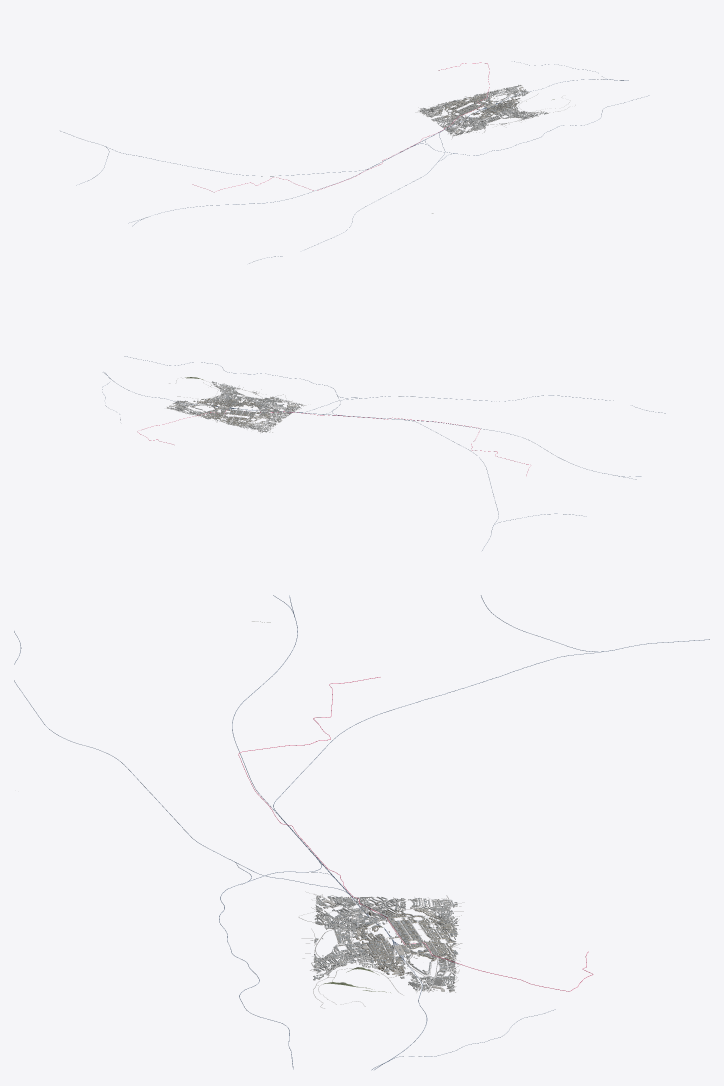
Rendered from edinburgh_3d.glb.
3 views of the same model, one above another, from view 1: azimuth 30°, elevation 25°; view 2: azimuth 150°, elevation 25°; view 3: azimuth 270°, elevation 25° (orthographic). The views are drawn at different scales.
Visible parts, largest first — view 1: Bati_Centre, Lignes_Train, Bati_Nouvelle_Ville, Voirie_centre; view 2: Bati_Centre, Lignes_Train, Bati_Nouvelle_Ville, Voirie_centre; view 3: Bati_Centre, Lignes_Train, Bati_Nouvelle_Ville, Voirie_centre, Bati_Vieille_Ville.
Part boxes in pixels (x1,y1,x2,y2): Bati_Centre: (418, 84, 548, 135); Lignes_Train: (60, 61, 649, 263); Bati_Nouvelle_Ville: (436, 93, 494, 118); Voirie_centre: (415, 86, 575, 139); Bati_Centre: (167, 381, 303, 432); Lignes_Train: (102, 356, 665, 550); Bati_Nouvelle_Ville: (199, 407, 271, 425); Voirie_centre: (168, 377, 306, 433); Bati_Centre: (313, 895, 458, 992); Lignes_Train: (14, 595, 709, 1070); Bati_Nouvelle_Ville: (385, 907, 455, 961); Voirie_centre: (298, 891, 464, 1008); Bati_Vieille_Ville: (355, 922, 404, 975).
Size of the model in its own units: 185 by 2.66 by 115.
